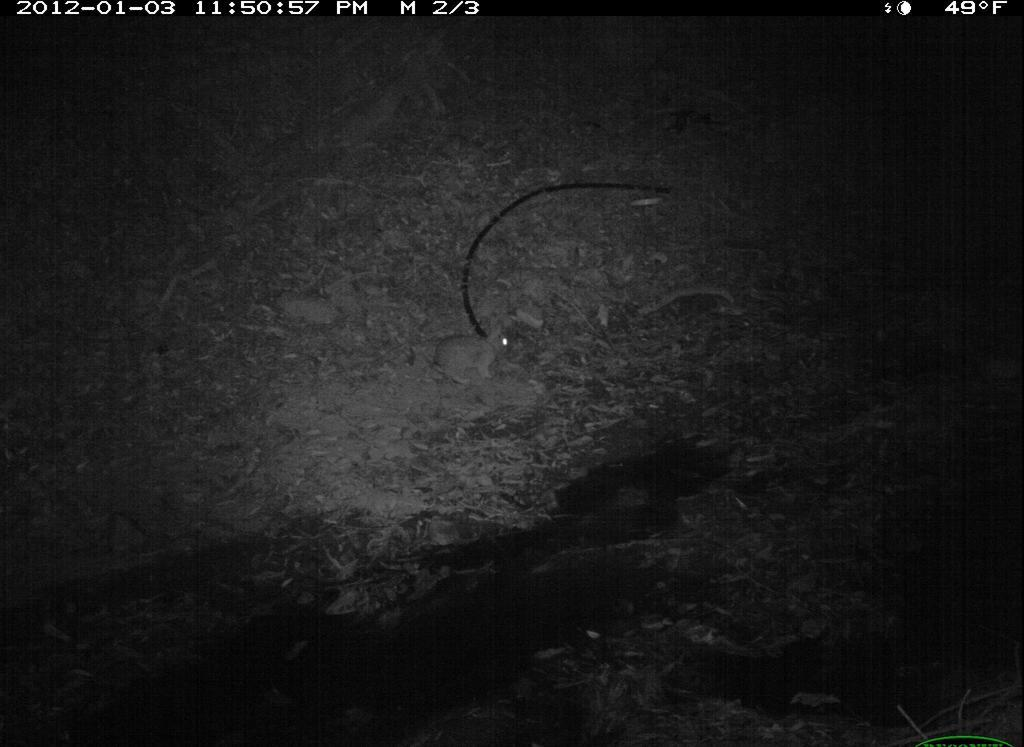rabbit: (434, 321, 520, 391)
